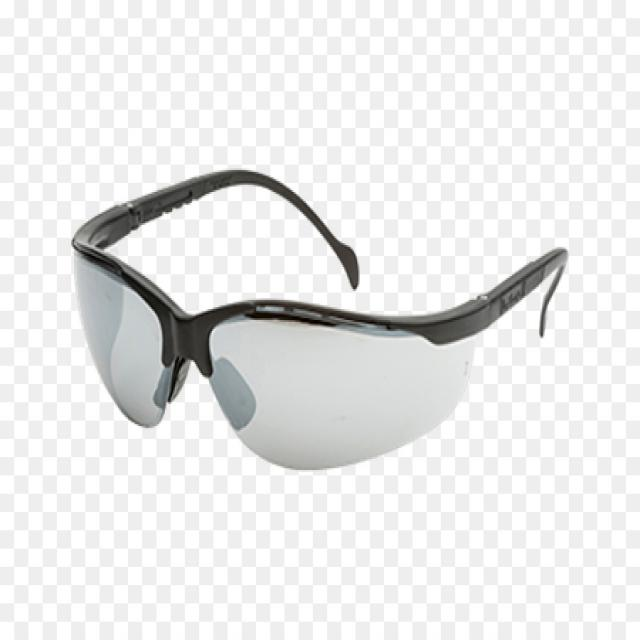Protective Glasses: (55, 154, 583, 476)
